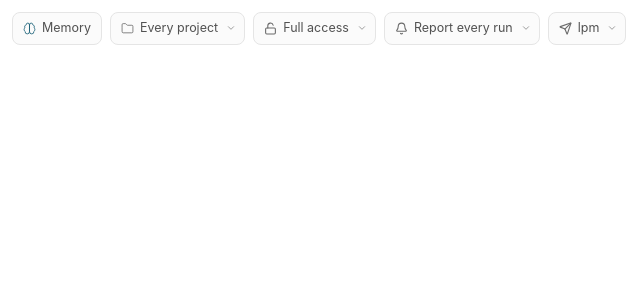
JobScopeRow › shows a locked scope without offering to change it
Step 1. Click the button "Every project" → (178, 28), box [110, 12, 245, 45]
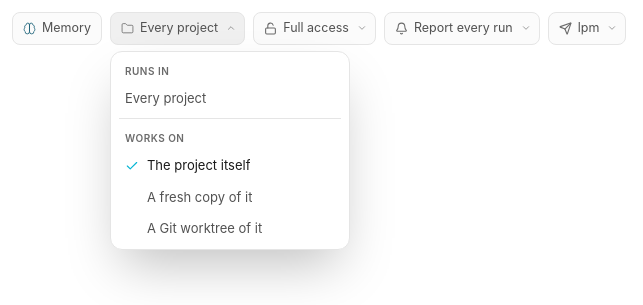
Expected: the text "Every project" is shown, [140, 19, 218, 38]
Result: the text "Works on" is shown at [125, 132, 184, 144]
